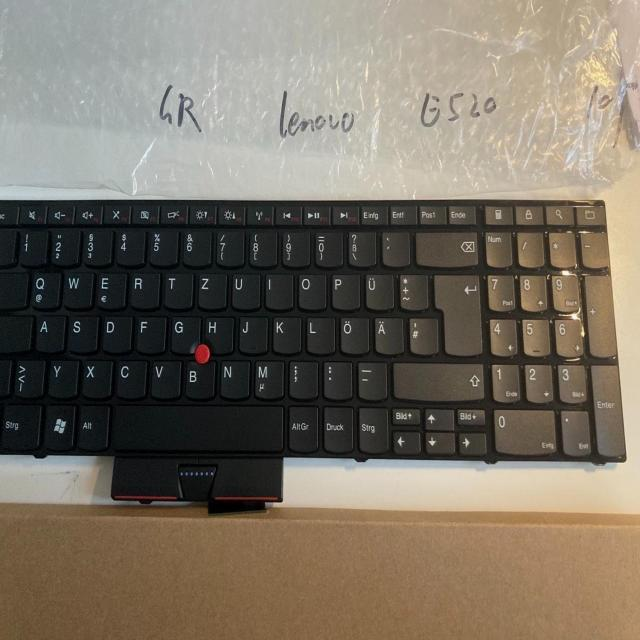0: (312, 229, 342, 266)
1: (19, 228, 47, 265)
2: (49, 226, 79, 265)
3: (81, 227, 112, 265)
4: (115, 226, 145, 265)
5: (147, 227, 178, 265)
6: (180, 228, 211, 266)
7: (215, 229, 243, 266)
8: (247, 229, 277, 266)
9: (280, 229, 309, 266)
a: (34, 313, 65, 352)
accent: (380, 229, 409, 266)
ae: (373, 315, 403, 354)
alt-left: (75, 402, 108, 449)
altgr-right: (286, 403, 318, 451)
b: (183, 358, 215, 398)
c: (115, 357, 147, 398)
caret: (0, 227, 15, 264)
comma: (287, 358, 317, 399)
d: (101, 313, 131, 353)
del: (413, 229, 477, 266)
e: (95, 270, 126, 309)
enter: (432, 271, 482, 356)
f: (135, 314, 165, 353)
g: (170, 314, 200, 353)
h: (202, 314, 233, 352)
hash: (407, 315, 437, 353)
i: (263, 271, 293, 309)
j: (237, 313, 267, 353)
k: (270, 314, 301, 353)
keyboard: (0, 192, 631, 467)
l: (304, 314, 334, 354)
less: (14, 357, 45, 397)
m: (252, 358, 283, 399)
minus: (355, 359, 387, 399)
n: (218, 358, 249, 399)
o: (296, 271, 326, 309)
oe: (339, 315, 369, 354)
p: (330, 272, 360, 310)
plus: (397, 271, 428, 309)
point: (321, 359, 351, 399)
q: (29, 269, 59, 309)
r: (129, 271, 159, 309)
s: (67, 313, 98, 353)
shift-left: (0, 358, 20, 396)
shift-lock: (0, 313, 32, 352)
shift-right: (390, 359, 485, 400)
space: (111, 402, 284, 452)
ss: (347, 230, 376, 266)
strg-left: (0, 401, 41, 450)
strg-right: (356, 404, 388, 452)
t: (162, 271, 193, 309)
tab: (0, 269, 27, 308)
u: (229, 271, 260, 310)
ue: (363, 272, 393, 310)
v: (150, 358, 180, 399)
w: (62, 269, 92, 308)
x: (81, 357, 111, 398)
y: (47, 357, 78, 398)
z: (196, 271, 227, 309)
